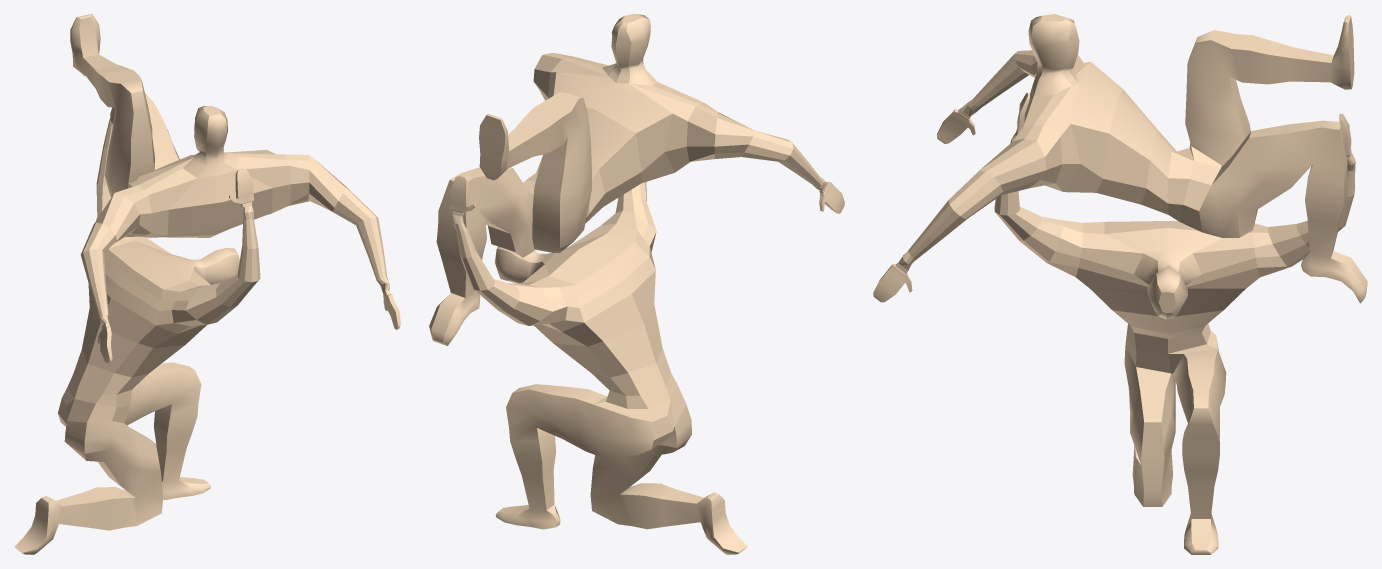
Rendered from lover_statue.fbx.
3 views of the same model, side by side, from view 1: azimuth 30°, elevation 25°; view 2: azimuth 150°, elevation 25°; view 3: azimuth 270°, elevation 25° (orthographic). The views are drawn at different scales.
Parts seen in each view (by area): view 1: pCube14, pCube15; view 2: pCube14, pCube15; view 3: pCube15, pCube14.
Boxes of the visible parts, box(x1,y1,x2,y2) form: pCube14: box(14, 118, 260, 554); pCube15: box(70, 14, 400, 363); pCube14: box(450, 175, 747, 554); pCube15: box(429, 14, 844, 345); pCube15: box(873, 14, 1367, 303); pCube14: box(994, 92, 1355, 554).
Size of the model in its own units: 7.41 by 11.26 by 9.95.
